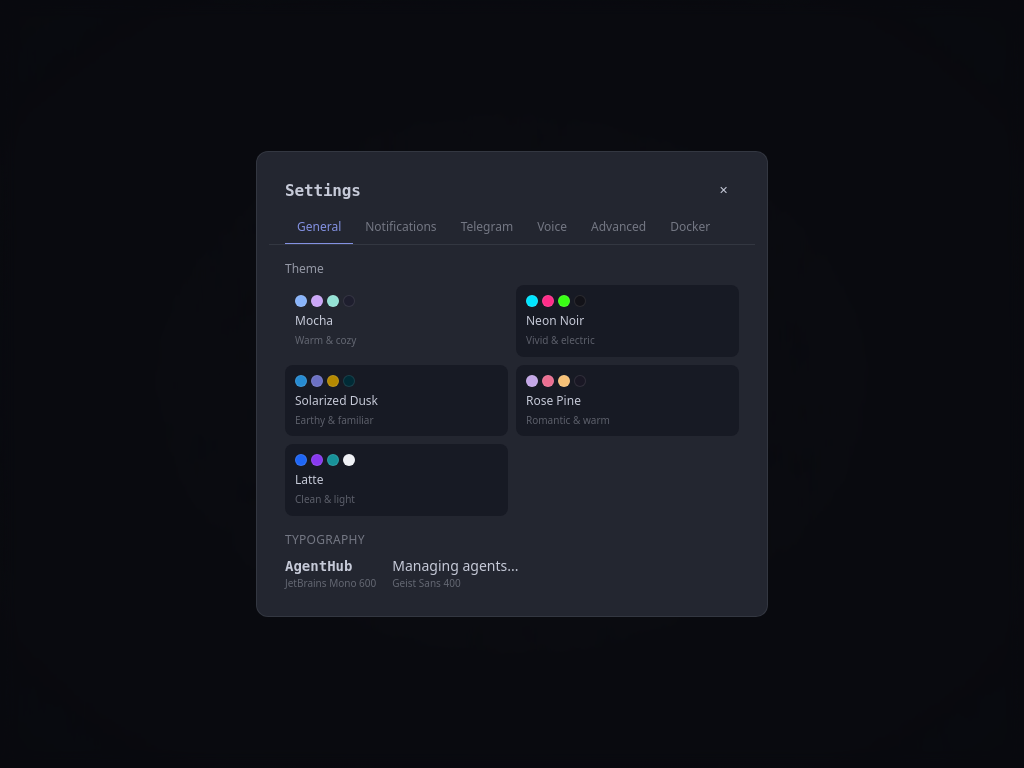
Scenario: SettingsPanel — Anamnesis secret field › disables Save while the field is blank
This screenshot has width=1024, height=768.
Click the button "advanced" at (619, 228), box [579,211,658,245]
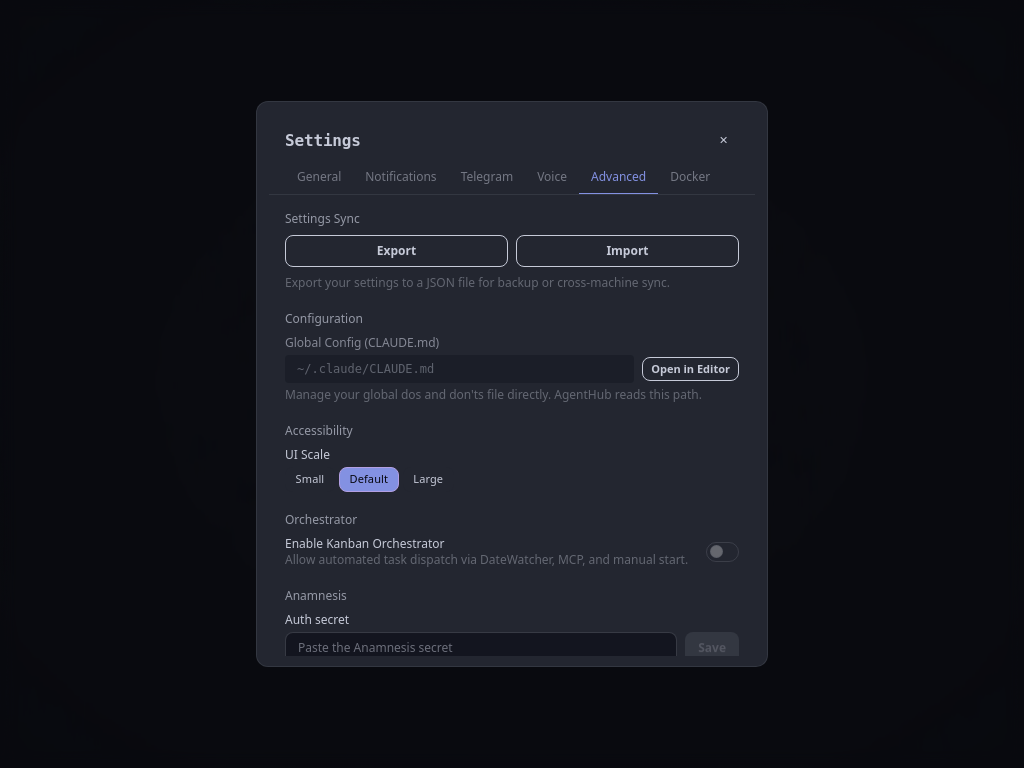
Expected: the button with test id "anamnesis-secret-save" is disabled, [685,632,739,656]
Type "sk-anamnesis-very-secret-123" into the password field with test id "anamnesis-secret-input" at (481, 648), box [285,632,677,664]
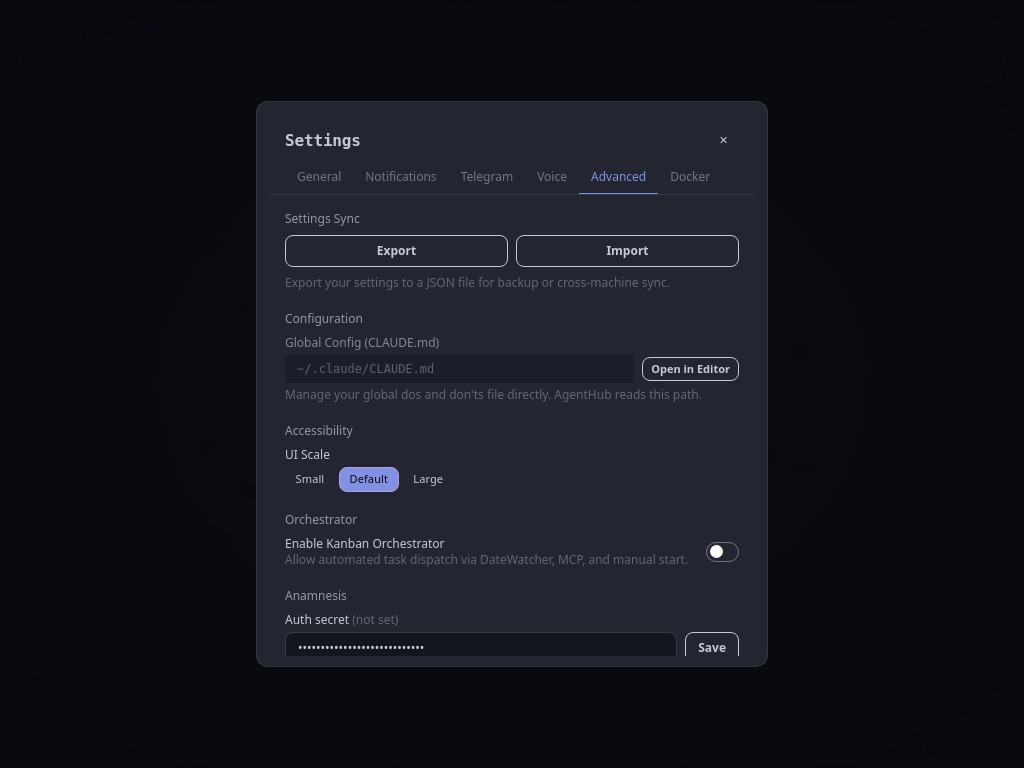
Expected: the button with test id "anamnesis-secret-save" is enabled, [685,632,739,656]
